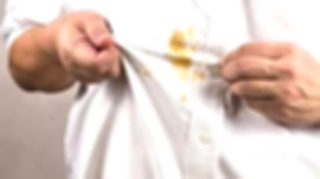oil: (162, 19, 207, 80), (135, 51, 155, 79), (178, 92, 193, 102), (135, 12, 147, 22)
